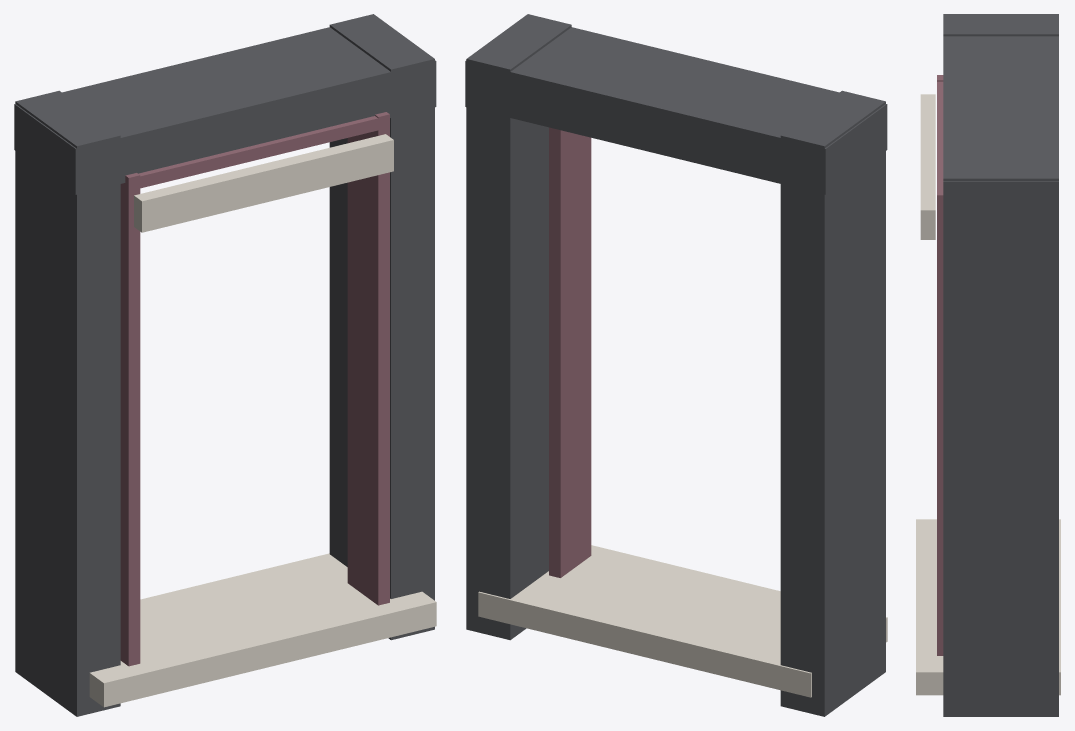
Rendered from portal-injury-law-frame.glb.
3 renders of one model, left to right at view 1: azimuth 30°, elevation 25°; view 2: azimuth 150°, elevation 25°; view 3: azimuth 270°, elevation 25°, orthographic. The views are drawn at different scales.
Visible parts, largest first — view 1: law_frame_left, law_frame_right, law_frame_top, law_threshold, law_reveal_right, law_archival_transom, law_reveal_left, law_reveal_head; view 2: law_frame_left, law_frame_right, law_frame_top, law_threshold, law_reveal_right; view 3: law_frame_right, law_frame_top, law_threshold, law_reveal_right, law_frame_left, law_archival_transom, law_reveal_head.
Part boxes in pixels (bbox=[...]): law_frame_left: bbox=[15, 90, 120, 716]; law_frame_right: bbox=[329, 14, 434, 640]; law_frame_top: bbox=[14, 27, 436, 194]; law_threshold: bbox=[89, 553, 436, 707]; law_reveal_right: bbox=[347, 112, 389, 605]; law_archival_transom: bbox=[134, 134, 393, 232]; law_reveal_left: bbox=[120, 173, 140, 666]; law_reveal_head: bbox=[121, 116, 389, 190]; law_frame_left: bbox=[780, 90, 885, 716]; law_frame_right: bbox=[466, 14, 571, 640]; law_frame_top: bbox=[465, 27, 887, 194]; law_threshold: bbox=[478, 545, 887, 697]; law_reveal_right: bbox=[549, 127, 591, 577]; law_frame_right: bbox=[943, 158, 1058, 716]; law_frame_top: bbox=[943, 36, 1058, 224]; law_threshold: bbox=[916, 519, 1060, 695]; law_reveal_right: bbox=[937, 190, 943, 655]; law_frame_left: bbox=[943, 14, 1058, 36]; law_archival_transom: bbox=[920, 94, 935, 239]; law_reveal_head: bbox=[937, 81, 943, 201].
Size of the model in its own units: 3.12 by 4.72 by 1.15.
